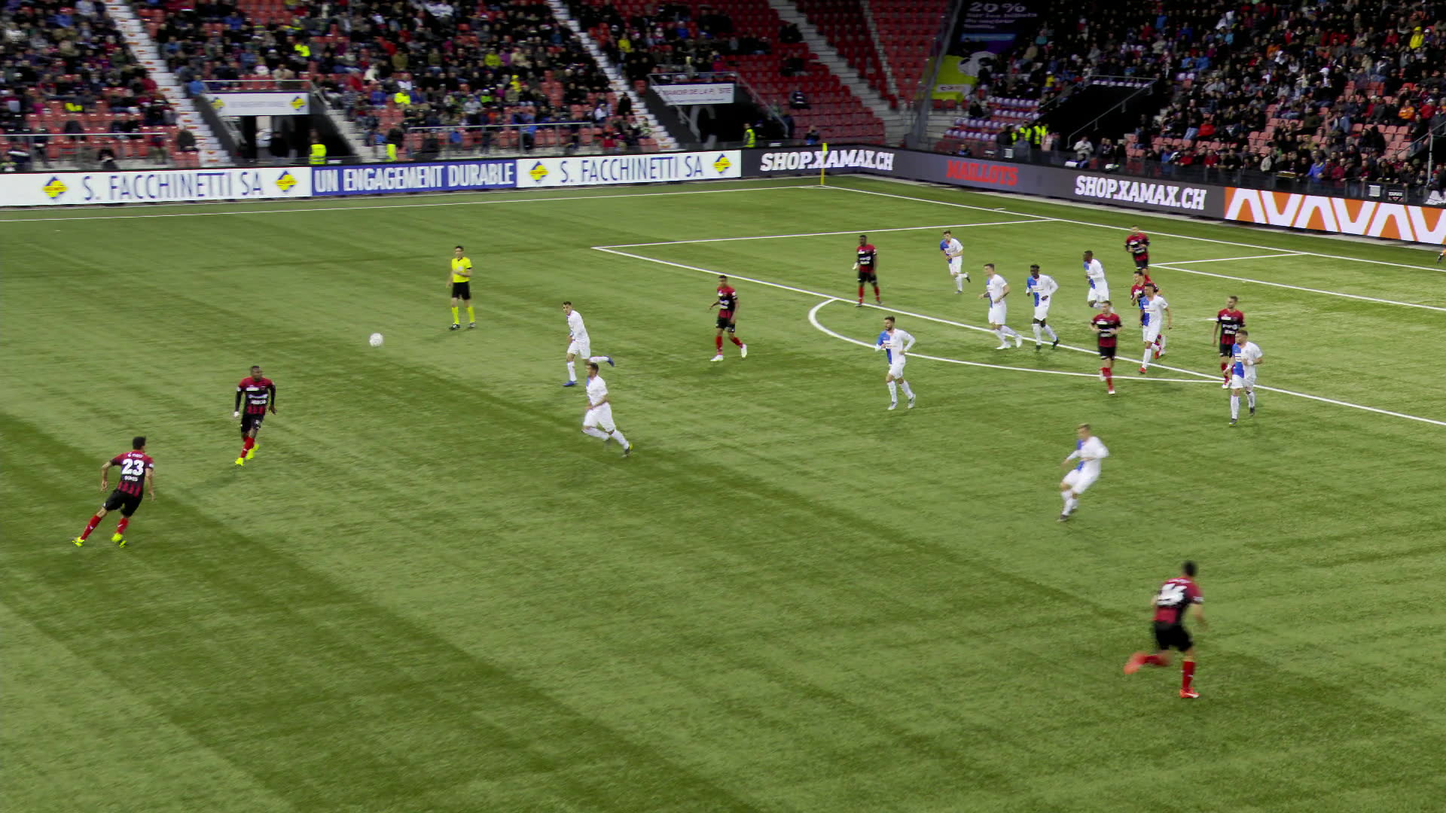ball: (368, 331, 386, 348)
player: (1123, 556, 1211, 701), (70, 434, 155, 550), (1053, 421, 1109, 523), (580, 361, 633, 457), (231, 362, 278, 468), (560, 301, 615, 388), (976, 263, 1023, 354), (1219, 330, 1263, 427), (874, 315, 917, 412), (706, 271, 747, 363), (1021, 263, 1061, 353), (1212, 294, 1248, 390), (1088, 300, 1123, 397), (1136, 284, 1171, 374), (1128, 272, 1164, 358), (850, 233, 884, 310), (938, 229, 972, 297), (1082, 248, 1115, 316), (1123, 223, 1152, 278), (1434, 245, 1446, 263)
referee: (444, 244, 477, 331)
